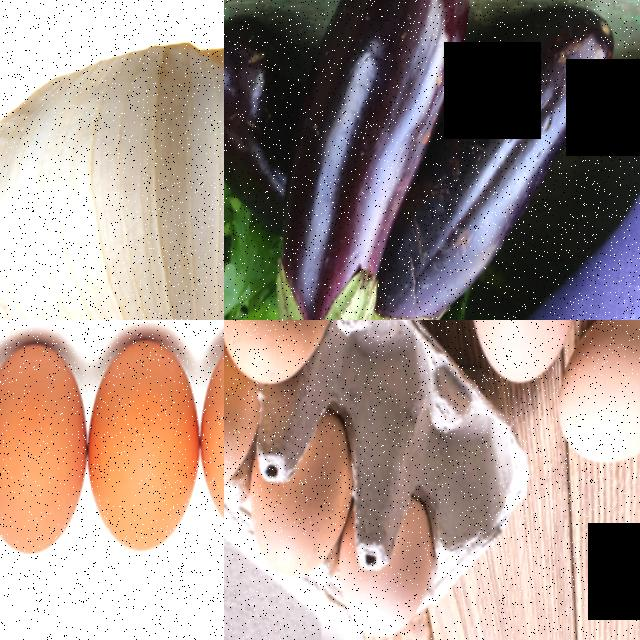egg_: (68, 320, 224, 559), (0, 324, 118, 568), (545, 320, 640, 467), (248, 474, 360, 584), (446, 320, 608, 389), (224, 320, 354, 391), (339, 553, 445, 640), (185, 320, 224, 542), (224, 377, 270, 503)
eggplant: (233, 0, 521, 320), (421, 0, 640, 301), (224, 0, 311, 231)
garlic: (0, 0, 224, 320)
